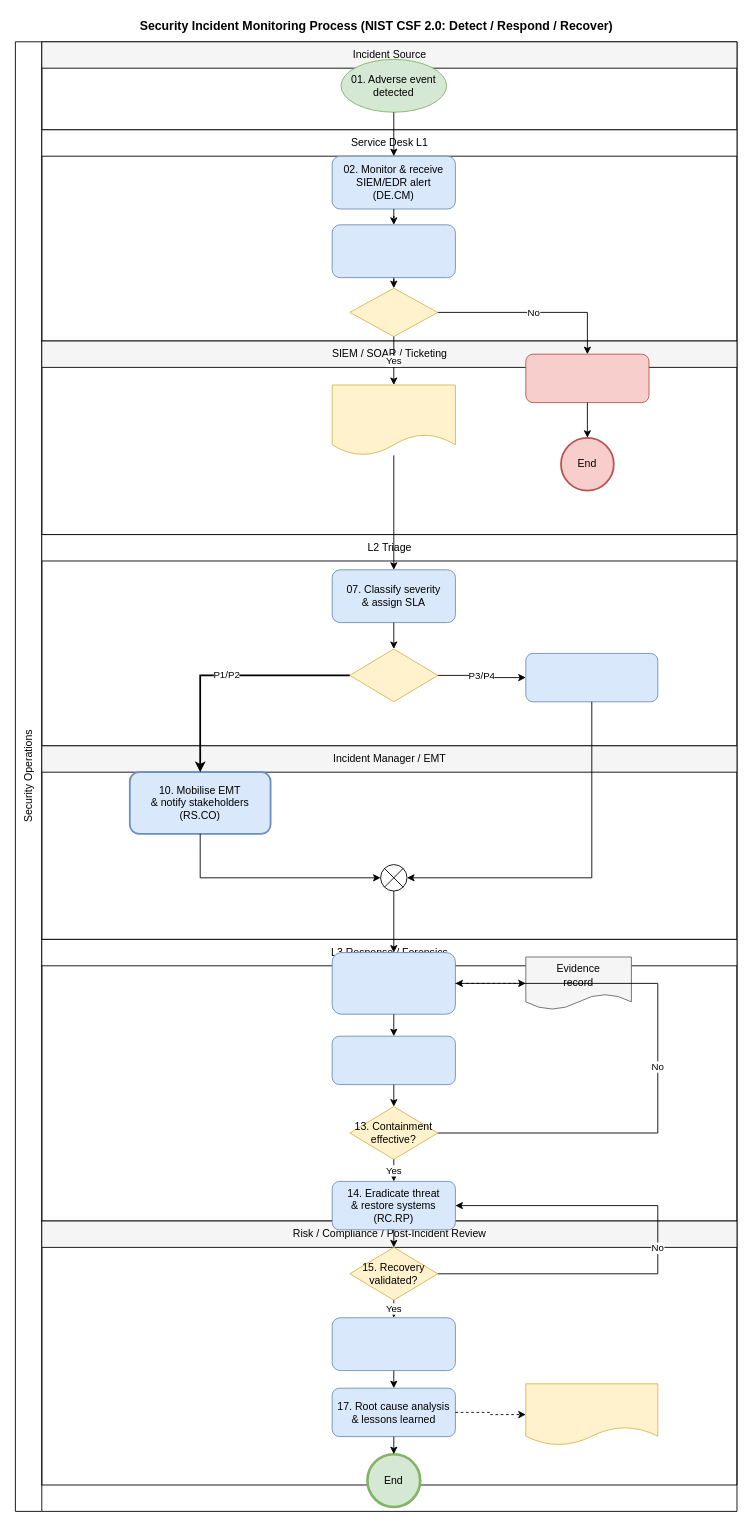
This 752x1527 diagram has some shape labels left out. Here are the shapes that lost their labels. From the top down, the centre of each, then its label:
the point at 393,251: 03. Initial triage & correlation (DE.AE)
the point at 393,312: 04. Valid incident?
the point at 587,378: 05. Close as false positive
the point at 393,419: 06. Create incident ticket / case record (RS.MA)
the point at 393,675: 08. P1/P2 critical?
the point at 591,677: 09. Standard response queue
the point at 393,983: 11. Analyse incident & collect evidence (RS.AN)
the point at 393,1060: 12. Contain threat (RS.MI)
the point at 393,1344: 16. Recovery communication (RC.CO)
the point at 591,1414: 18. Update risk register & playbooks
